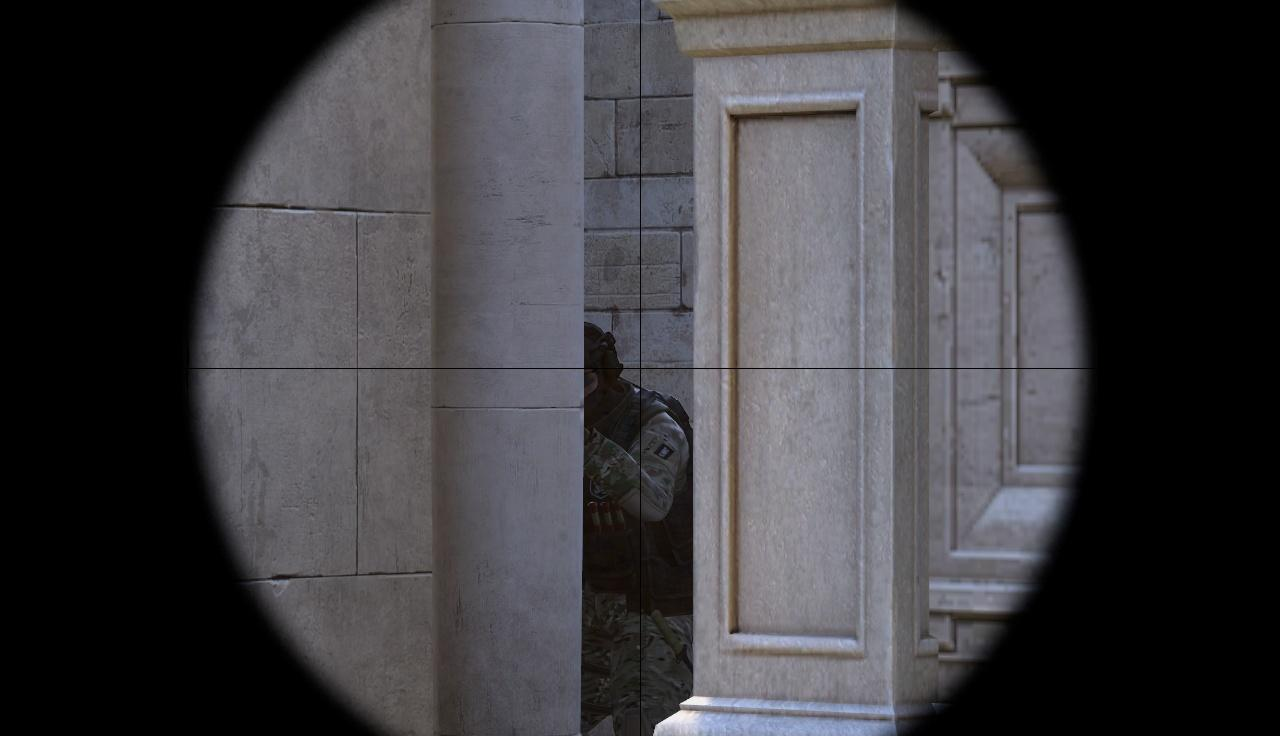ct: (582, 327, 691, 734)
cthead: (583, 323, 622, 413)
